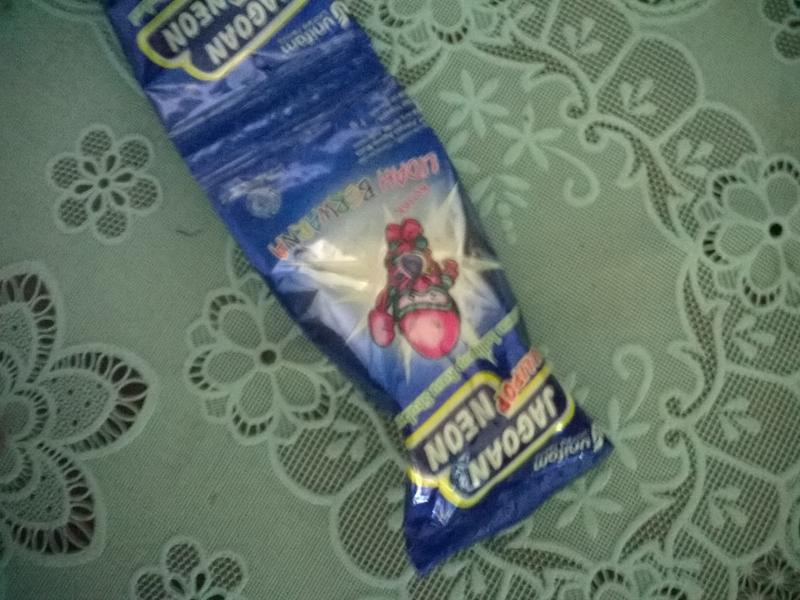jagoan neon: (179, 59, 614, 579)
